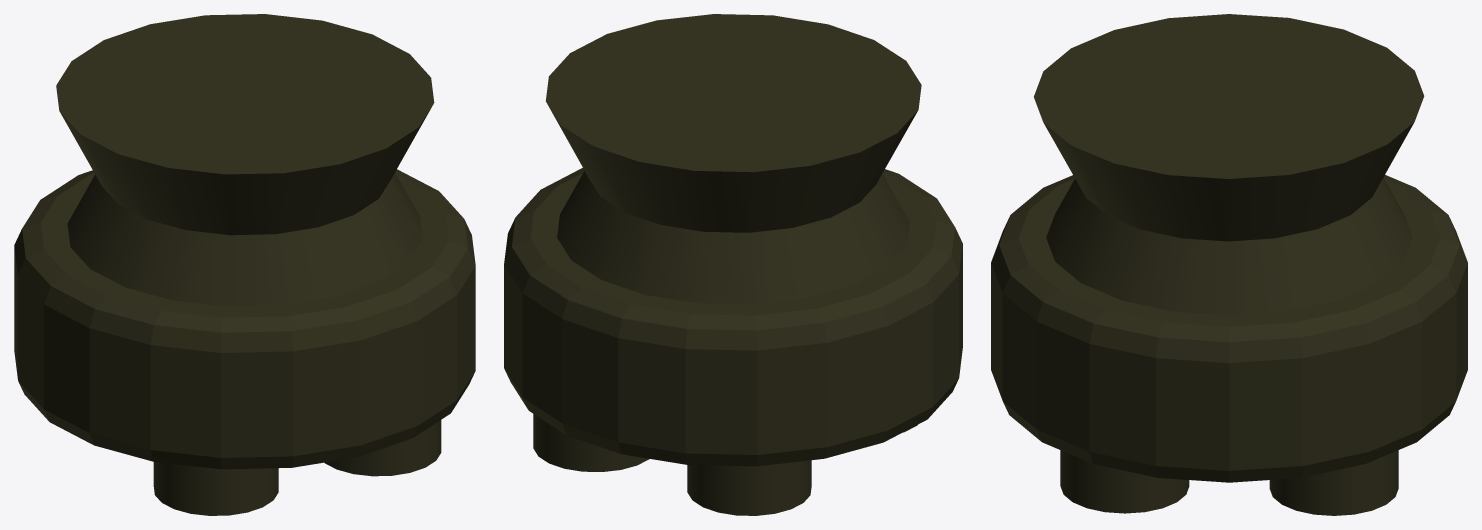
The model's file is Kristallkula_hallare.fbx.
3 views of the same model, side by side, from view 1: azimuth 30°, elevation 25°; view 2: azimuth 150°, elevation 25°; view 3: azimuth 270°, elevation 25° (orthographic). The views are drawn at different scales.
Visible parts, largest first — view 1: pCylinder2, pCone1, pCone2, pCylinder7, pCylinder5; view 2: pCylinder2, pCone1, pCone2, pCylinder3, pCylinder6; view 3: pCylinder2, pCone1, pCone2, pCylinder6, pCylinder5.
Part boxes in pixels (bbox=[...]): pCylinder2: bbox=[14, 169, 475, 469]; pCone1: bbox=[56, 14, 434, 235]; pCone2: bbox=[67, 173, 422, 306]; pCylinder7: bbox=[153, 462, 278, 515]; pCylinder5: bbox=[324, 420, 441, 476]; pCylinder2: bbox=[504, 168, 962, 466]; pCone1: bbox=[546, 14, 921, 232]; pCone2: bbox=[557, 171, 909, 304]; pCylinder3: bbox=[687, 460, 811, 515]; pCylinder6: bbox=[533, 414, 649, 471]; pCylinder2: bbox=[991, 175, 1467, 482]; pCone1: bbox=[1034, 14, 1424, 241]; pCone2: bbox=[1046, 178, 1412, 315]; pCylinder6: bbox=[1269, 450, 1398, 515]; pCylinder5: bbox=[1060, 450, 1189, 513].
Size of the model in its own units: 1.82 by 1.47 by 1.82.
